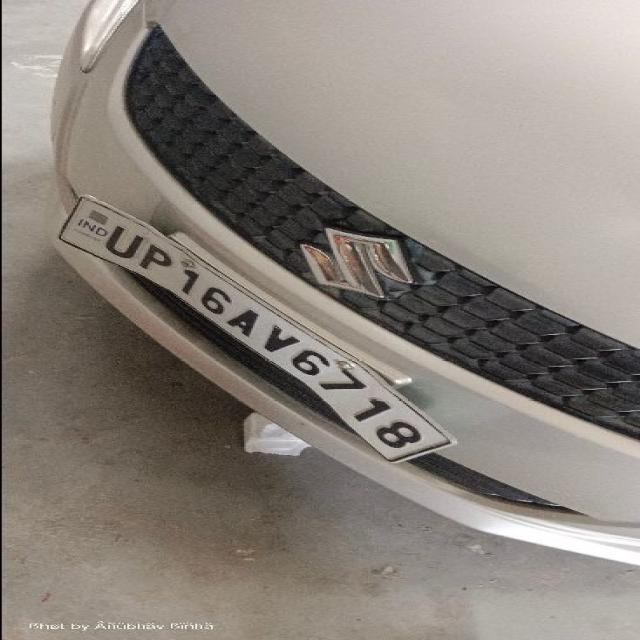license_plate: (47, 0, 637, 565), (56, 193, 458, 464)
